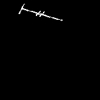treble_crochet: (19, 6, 57, 19)
